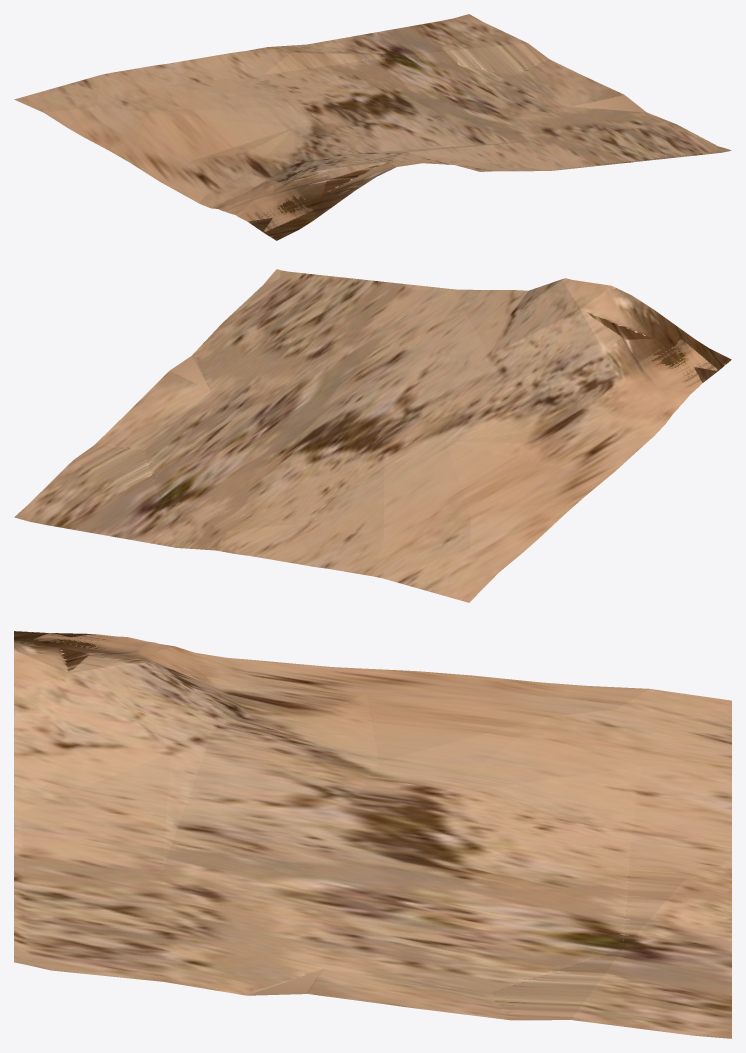
3 views of the same model, one above another, from view 1: azimuth 30°, elevation 25°; view 2: azimuth 150°, elevation 25°; view 3: azimuth 270°, elevation 25° (orthographic). The views are drawn at different scales.
Bounding box in the file's own units: 2.09 × 0.5333 × 2.09.
2 materials, 2 textured.
